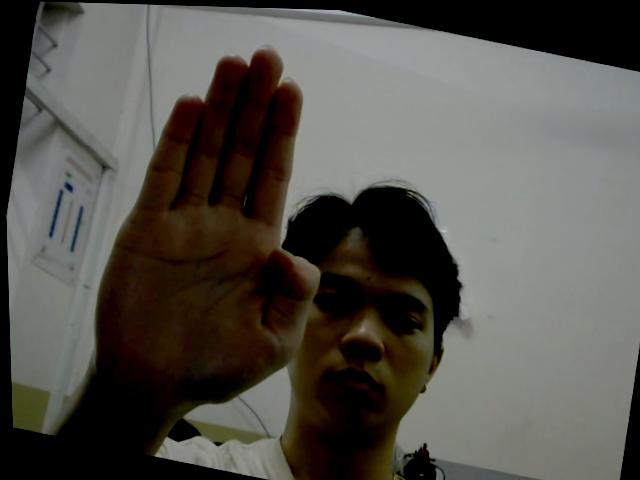B: (72, 12, 360, 421)
